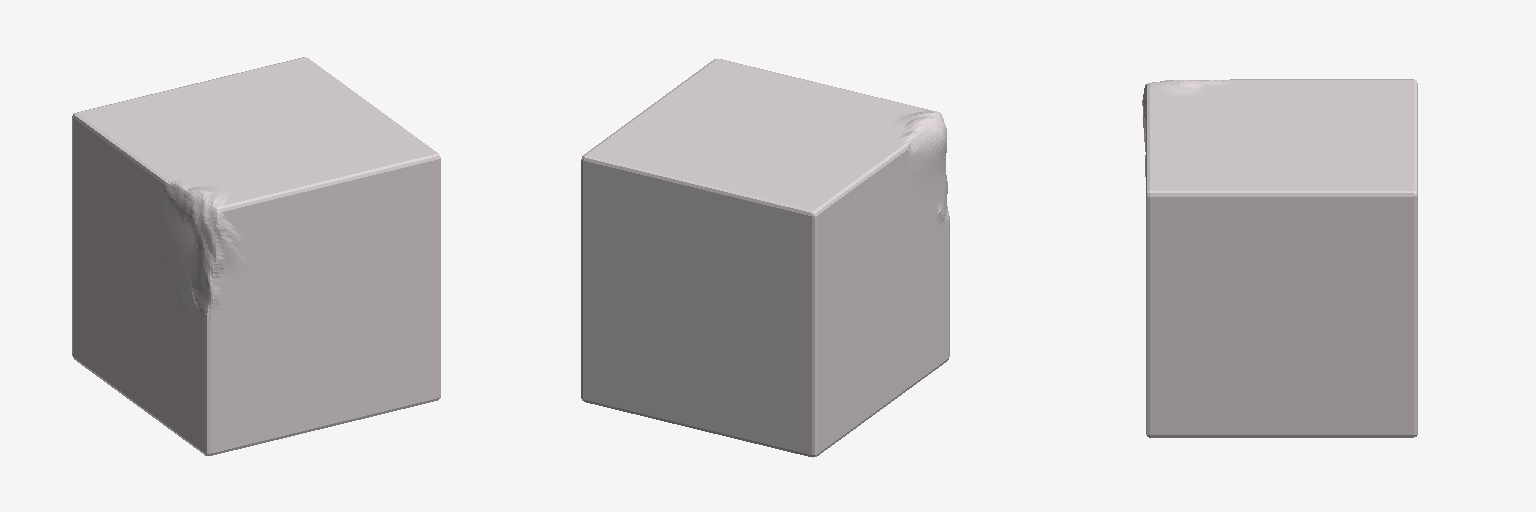
3 views of the same model, side by side, from view 1: azimuth 30°, elevation 25°; view 2: azimuth 150°, elevation 25°; view 3: azimuth 270°, elevation 25° (orthographic).
Bounding box in the file's own units: 1.01 × 1.01 × 1.01.
Materials: 1 (1 with a texture image).